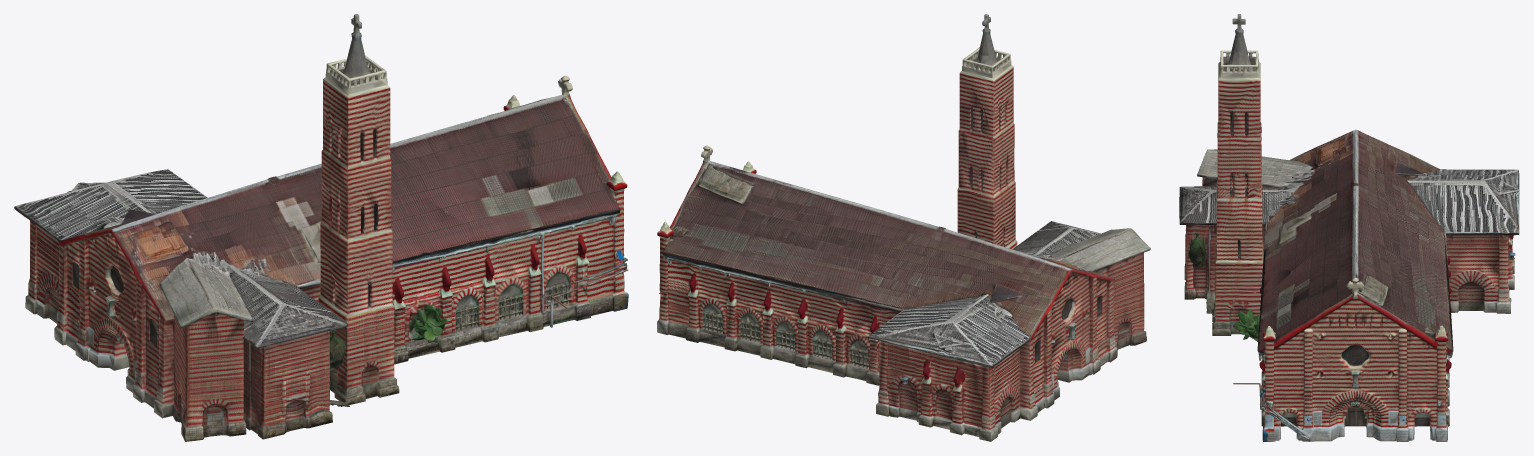
File: cathedrale.glb
The picture shows the model from 3 angles, left to right: view 1: azimuth 30°, elevation 25°; view 2: azimuth 150°, elevation 25°; view 3: azimuth 270°, elevation 25°; orthographic projection. The views are drawn at different scales.
Parts seen in each view (by area): view 1: tripo_node_c273211f-962a-40c0-ba1e-74cd65cb6aff; view 2: tripo_node_c273211f-962a-40c0-ba1e-74cd65cb6aff; view 3: tripo_node_c273211f-962a-40c0-ba1e-74cd65cb6aff.
Part boxes in pixels (x1,y1,x2,y2): tripo_node_c273211f-962a-40c0-ba1e-74cd65cb6aff: [14, 14, 628, 441]; tripo_node_c273211f-962a-40c0-ba1e-74cd65cb6aff: [657, 14, 1150, 441]; tripo_node_c273211f-962a-40c0-ba1e-74cd65cb6aff: [1179, 14, 1519, 441].
Size of the model in its own units: 0.9997 by 0.7446 by 0.7371.
Materials: 1 (1 with a texture image).
